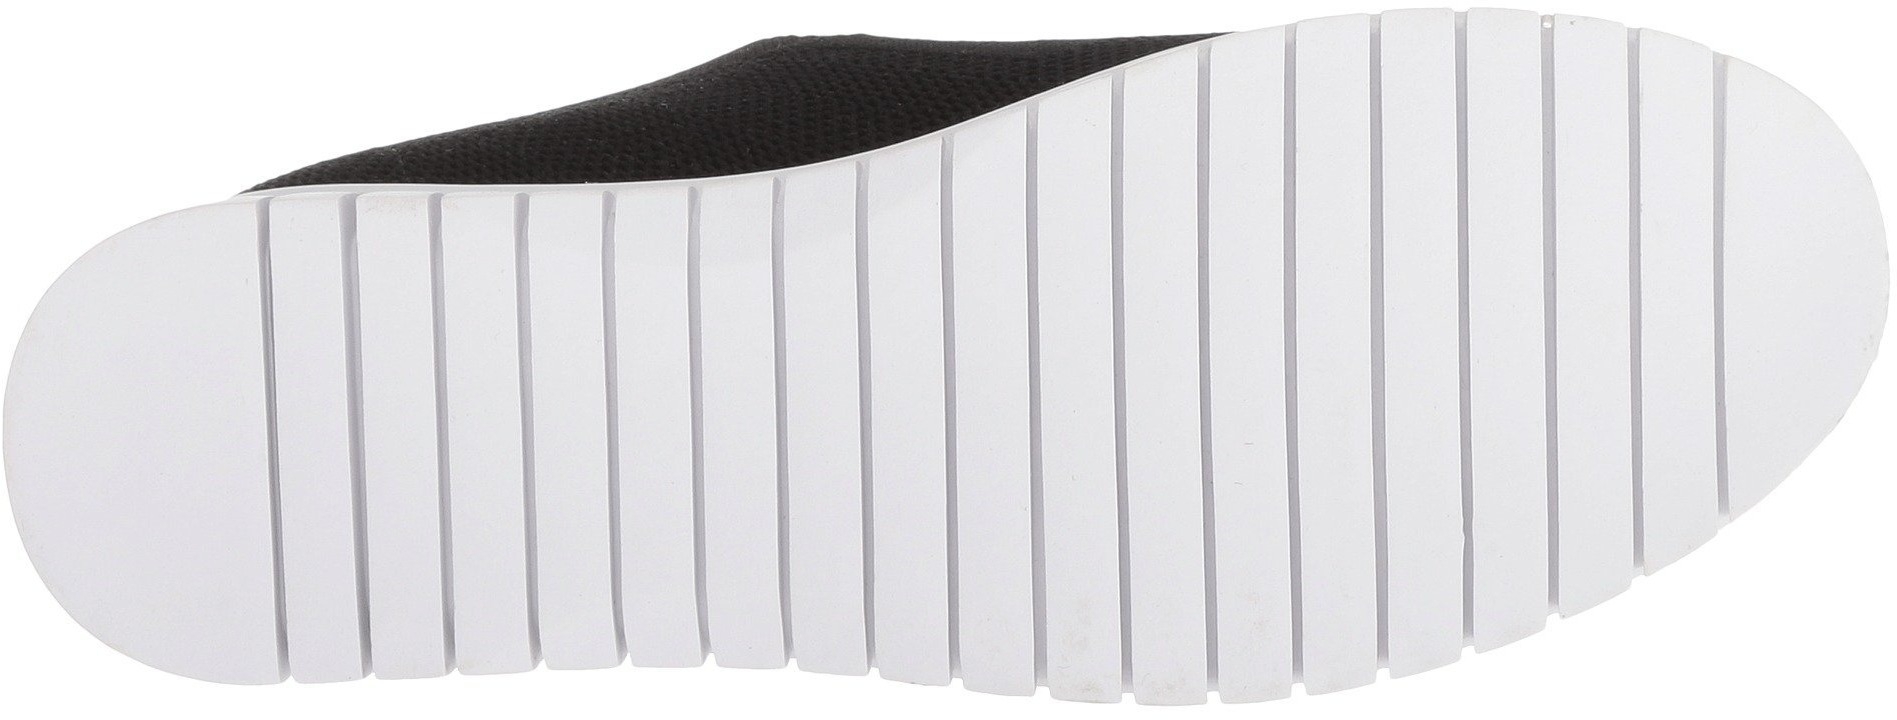line: (1055, 129, 1572, 601), (221, 237, 662, 635), (710, 212, 1013, 488), (1553, 67, 1812, 317)
other: (45, 287, 225, 467), (54, 472, 221, 628)
quad: (236, 205, 512, 486), (1060, 96, 1334, 378), (784, 174, 1053, 447), (515, 188, 777, 437), (1342, 40, 1582, 264), (979, 449, 1201, 691), (1340, 273, 1582, 495), (762, 449, 971, 674), (517, 444, 723, 650), (263, 489, 456, 672), (1215, 495, 1393, 682), (1584, 352, 1746, 512), (1593, 47, 1742, 196), (1588, 203, 1739, 346), (1397, 502, 1524, 638)
